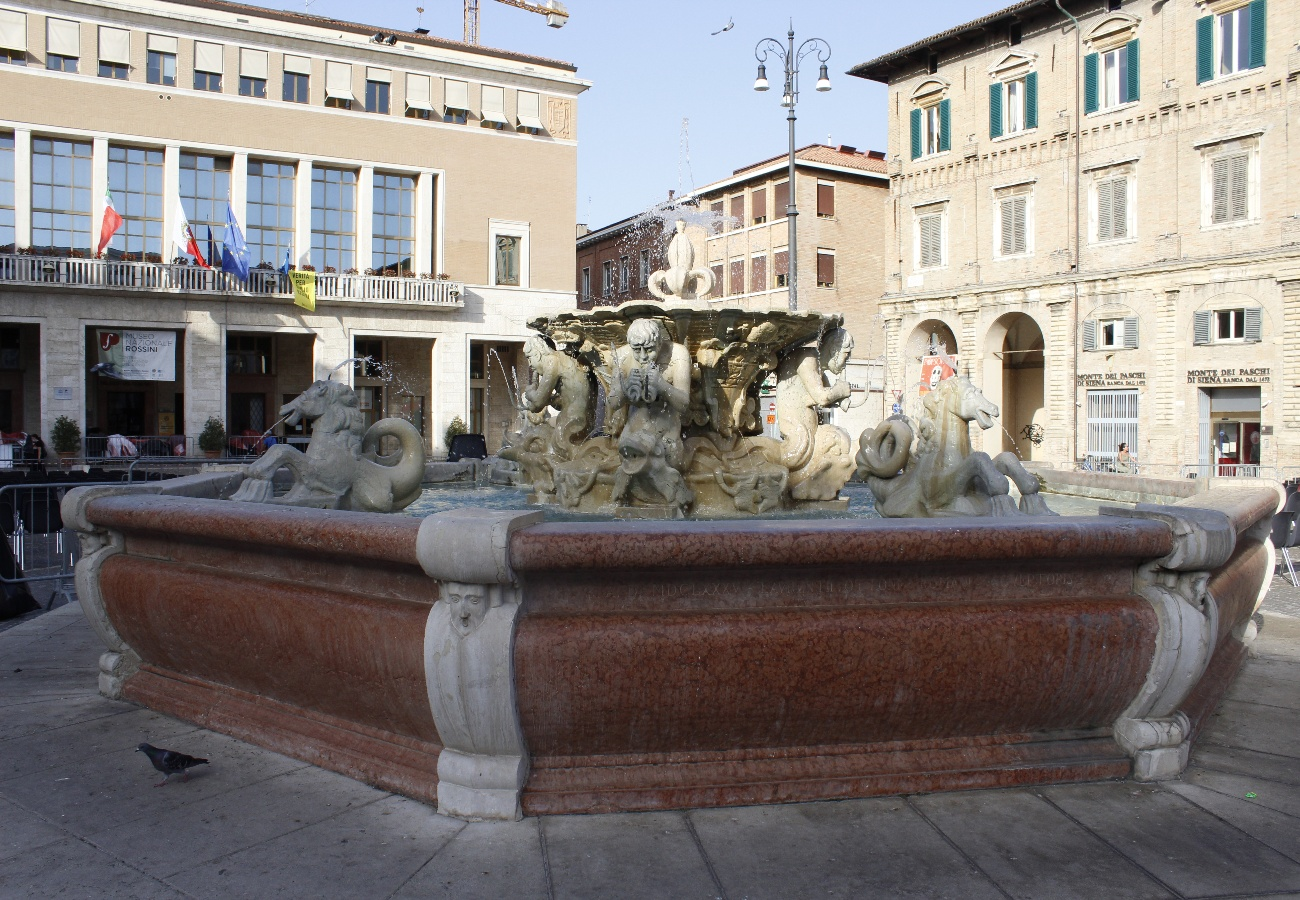Fontana Piazza del Popolo: (507, 311, 860, 518)
